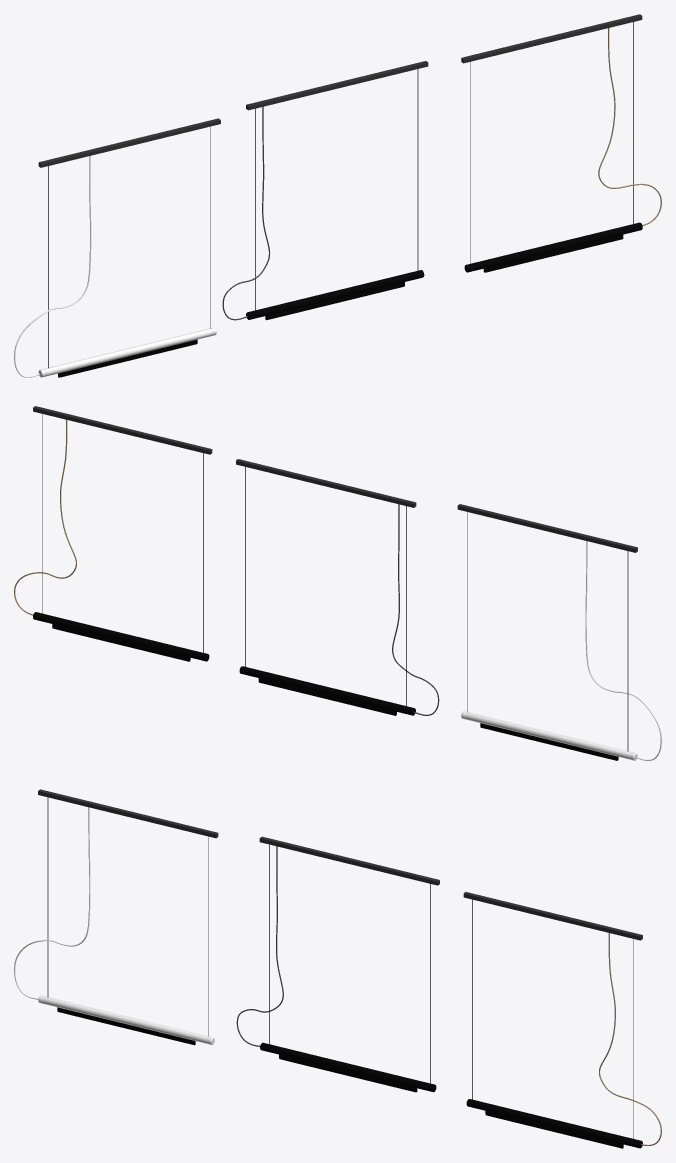
Rendered from лампы3.fbx.
3 renders of one model, top to bottom at view 1: azimuth 30°, elevation 25°; view 2: azimuth 150°, elevation 25°; view 3: azimuth 330°, elevation 25°, orthographic.
Visible parts, largest first — view 1: Line002, Line016, Line009, Box001, Box003, Box002, Line007, Line021, Line014, Line018; view 2: Line016, Line002, Line009, Box003, Box001, Box002, Line014, Line007, Line021, Line018; view 3: Line009, Line016, Line002, Box003, Box001, Box002, Line021, Line007, Line014.
Boxes of the visible parts, bbox=[...] form: Line002: bbox=[471, 223, 638, 271]; Line016: bbox=[44, 328, 212, 376]; Line009: bbox=[252, 271, 419, 318]; Box001: bbox=[246, 61, 428, 110]; Box003: bbox=[38, 118, 220, 167]; Box002: bbox=[461, 14, 642, 63]; Line007: bbox=[483, 234, 623, 272]; Line021: bbox=[58, 339, 197, 377]; Line014: bbox=[265, 282, 404, 320]; Line018: bbox=[14, 156, 91, 377]; Line016: bbox=[465, 712, 631, 759]; Line002: bbox=[37, 613, 202, 660]; Line009: bbox=[244, 667, 409, 714]; Box003: bbox=[457, 504, 637, 552]; Box001: bbox=[236, 459, 416, 507]; Box002: bbox=[33, 406, 212, 454]; Line014: bbox=[258, 678, 396, 715]; Line007: bbox=[52, 624, 190, 661]; Line021: bbox=[480, 723, 618, 760]; Line018: bbox=[585, 541, 661, 760]; Line009: bbox=[264, 1043, 429, 1090]; Line016: bbox=[42, 996, 208, 1043]; Line002: bbox=[471, 1100, 636, 1146]; Box003: bbox=[38, 789, 218, 838]; Box001: bbox=[259, 836, 439, 885]; Box002: bbox=[463, 892, 642, 940]; Line021: bbox=[57, 1007, 195, 1045]; Line007: bbox=[485, 1111, 623, 1148]; Line014: bbox=[279, 1054, 417, 1092].
Size of the model in its own units: 469 by 152 by 15.19.
